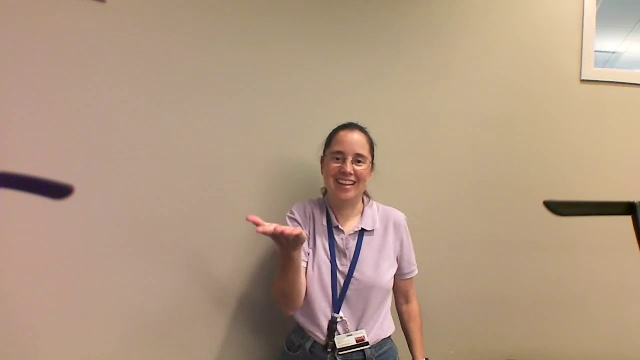land: (235, 202, 311, 251)
